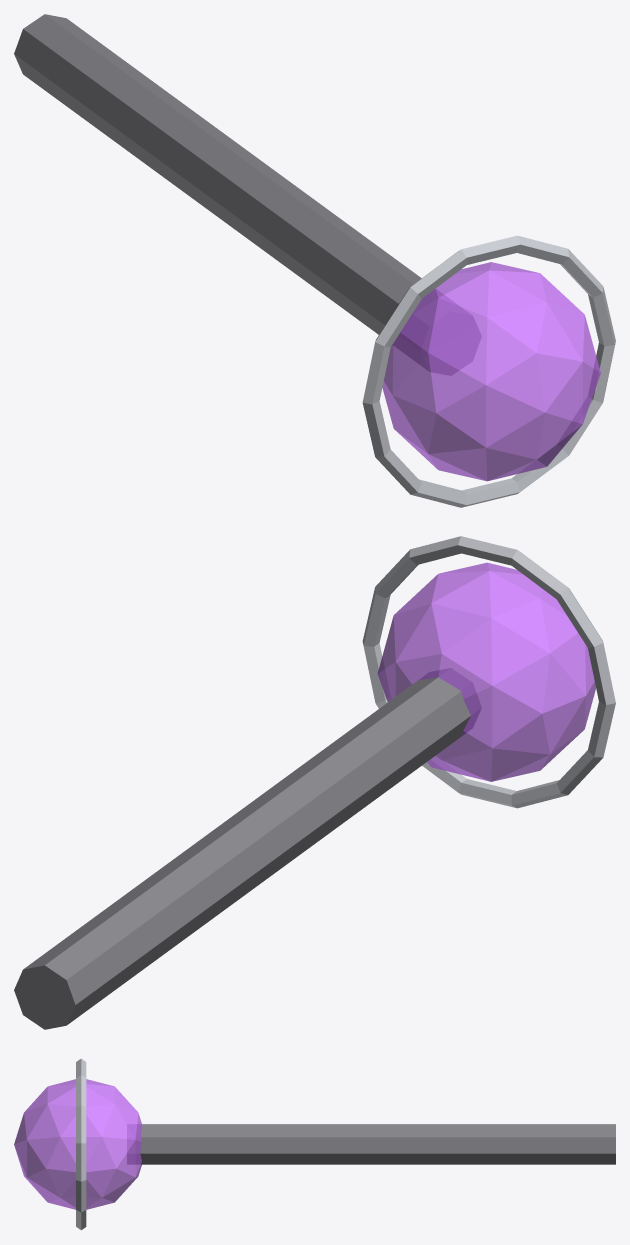
The model's file is void_lantern.glb.
3 views of the same model, one above another, from view 1: azimuth 30°, elevation 25°; view 2: azimuth 150°, elevation 25°; view 3: azimuth 270°, elevation 25° (orthographic). The views are drawn at different scales.
Visible parts, largest first — view 1: post, light_orb, lamp_cage; view 2: post, light_orb, lamp_cage; view 3: post, light_orb, lamp_cage.
Boxes of the visible parts, x1,y1,x2,y2 form: post: (14, 14, 481, 375); light_orb: (382, 262, 600, 481); lamp_cage: (362, 235, 615, 507); post: (14, 668, 481, 1029); light_orb: (377, 562, 595, 781); lamp_cage: (362, 536, 615, 808); post: (127, 1124, 615, 1164); light_orb: (14, 1079, 142, 1209); lamp_cage: (76, 1058, 86, 1230).
Bounding box in the file's own units: 0.576 × 0.5616 × 1.97.
